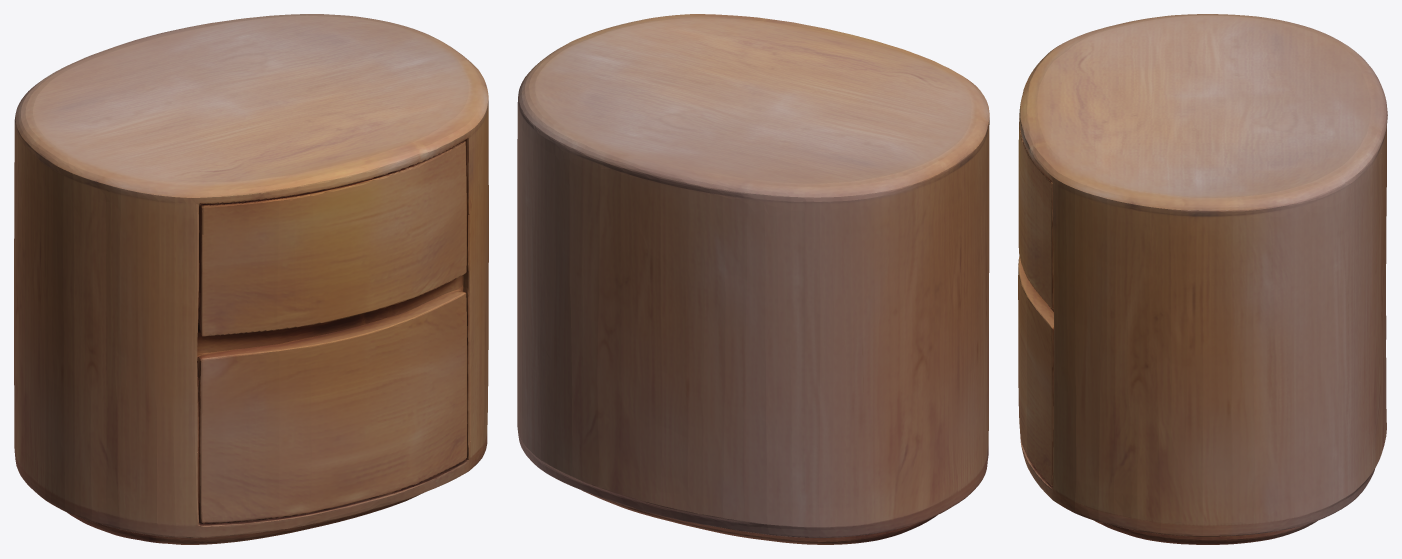
Rendered from BURO MOD 61.glb.
The picture shows the model from 3 angles, left to right: view 1: azimuth 30°, elevation 25°; view 2: azimuth 150°, elevation 25°; view 3: azimuth 270°, elevation 25°; orthographic projection. The views are drawn at different scales.
Visible parts, largest first — view 1: world; view 2: world; view 3: world.
Boxes of the visible parts, left/top/right/bottom form: world: left=14, top=14, right=488, bottom=544; world: left=517, top=14, right=989, bottom=544; world: left=1018, top=14, right=1387, bottom=544.
Bounding box in the file's own units: 1 × 0.8543 × 0.8022.
Materials: 1 (1 with a texture image).
